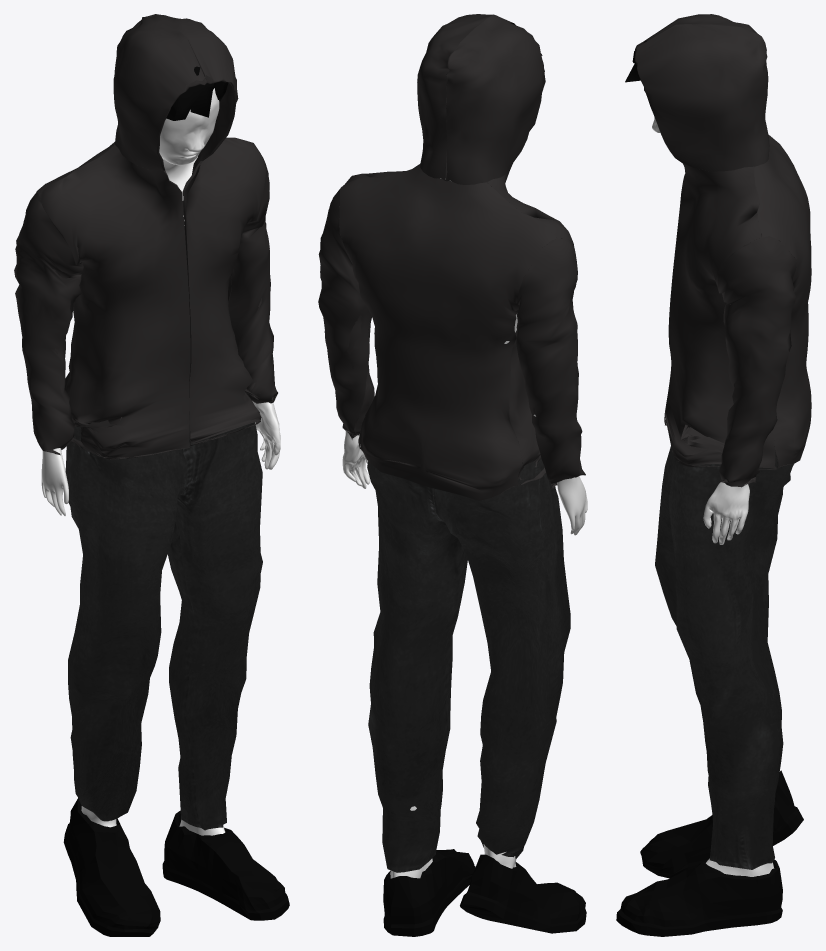
Rendered from boy.gltf.
The picture shows the model from 3 angles, left to right: view 1: azimuth 30°, elevation 25°; view 2: azimuth 150°, elevation 25°; view 3: azimuth 270°, elevation 25°; orthographic projection. The views are drawn at different scales.
Parts seen in each view (by area): view 1: Hoodie, pant, rightshoe, leftshoe, man, hair; view 2: Hoodie, pant, rightshoe, leftshoe, man; view 3: Hoodie, pant, leftshoe, rightshoe, man.
Boxes of the visible parts, x1=… form: Hoodie: x1=14, y1=14, x2=277, y2=459; pant: x1=65, y1=415, x2=262, y2=830; rightshoe: x1=63, y1=798, x2=160, y2=936; leftshoe: x1=162, y1=810, x2=289, y2=920; man: x1=41, y1=88, x2=280, y2=835; hair: x1=166, y1=66, x2=228, y2=120; Hoodie: x1=318, y1=14, x2=585, y2=500; pant: x1=367, y1=458, x2=570, y2=872; rightshoe: x1=460, y1=854, x2=586, y2=933; leftshoe: x1=383, y1=849, x2=475, y2=936; man: x1=342, y1=178, x2=587, y2=878; Hoodie: x1=634, y1=14, x2=811, y2=487; pant: x1=655, y1=446, x2=793, y2=869; leftshoe: x1=616, y1=859, x2=782, y2=936; rightshoe: x1=640, y1=770, x2=803, y2=878; man: x1=652, y1=117, x2=774, y2=876.
Size of the model in its own units: 0.6204 by 2.11 by 0.4271.
Materials: 5 (1 with a texture image).
